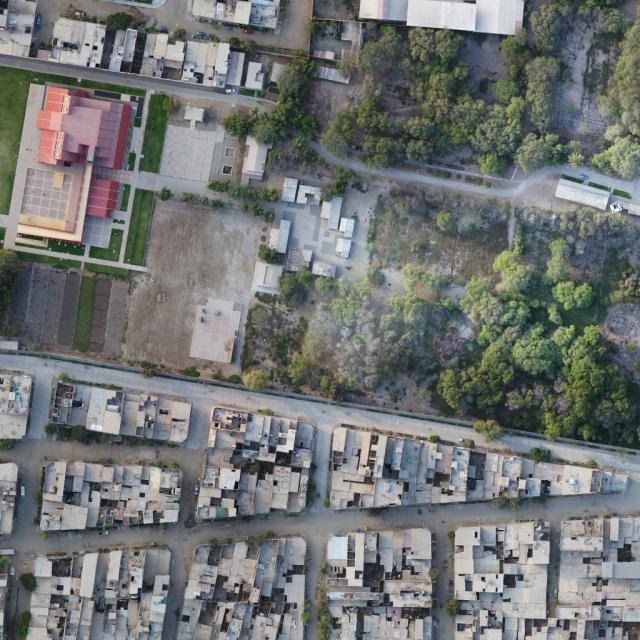building: (330, 427, 630, 516), (0, 66, 145, 214), (194, 404, 323, 536), (26, 549, 172, 640), (453, 522, 550, 640), (548, 517, 640, 639), (40, 461, 183, 530), (49, 380, 193, 446), (187, 295, 242, 364), (48, 17, 107, 69), (180, 39, 233, 87), (140, 31, 189, 82), (0, 374, 33, 440), (554, 177, 611, 211), (109, 26, 139, 74), (0, 462, 19, 534), (251, 260, 284, 296), (281, 178, 323, 206), (81, 215, 113, 248), (359, 0, 407, 21), (245, 61, 266, 91), (274, 218, 292, 253), (327, 195, 344, 230), (0, 572, 8, 639), (281, 177, 299, 202), (338, 217, 355, 238), (336, 239, 351, 258), (267, 228, 279, 248)
dryland: (120, 194, 264, 378), (158, 124, 218, 184)
greenland: (417, 195, 640, 447), (350, 26, 585, 177), (251, 0, 376, 153), (361, 180, 514, 296), (303, 294, 434, 391), (543, 12, 624, 135), (3, 262, 87, 353), (0, 66, 33, 213), (297, 75, 350, 137), (88, 278, 129, 356), (138, 92, 172, 174), (315, 109, 365, 161), (123, 188, 155, 267), (87, 278, 112, 352), (6, 266, 35, 327), (529, 4, 563, 52), (579, 210, 624, 240)
metalled_road: (10, 440, 432, 640), (0, 346, 488, 518), (89, 364, 489, 516), (155, 510, 220, 591), (431, 501, 498, 543), (160, 571, 187, 640), (169, 447, 196, 510), (251, 96, 276, 111)
unmetalled_road: (306, 141, 550, 202), (428, 164, 481, 179)
